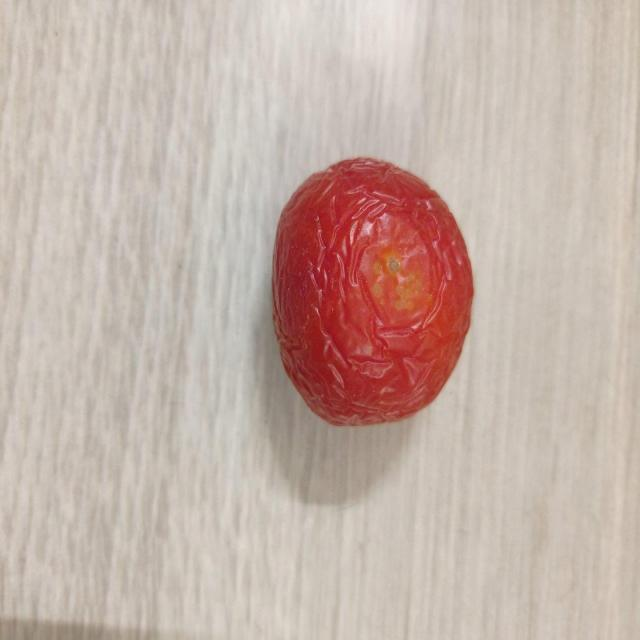overripe: (270, 155, 476, 428)
